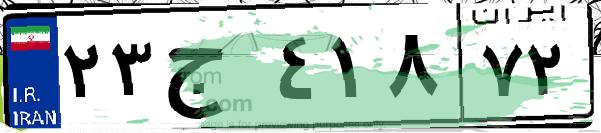1: (330, 28, 385, 110)
2: (57, 26, 110, 100), (525, 38, 570, 115)
3: (110, 28, 158, 98)
4: (270, 28, 330, 110)
7: (475, 38, 525, 113)
8: (385, 28, 445, 110)
ج: (158, 20, 270, 120)
